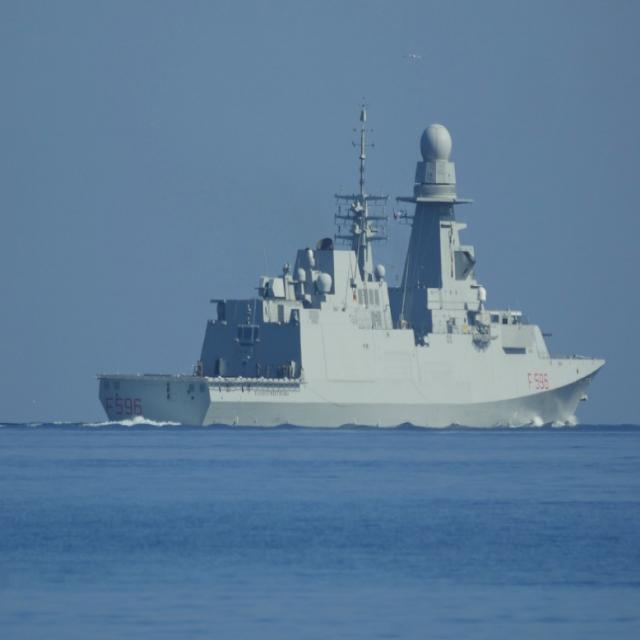Fragata: (99, 113, 611, 433)
